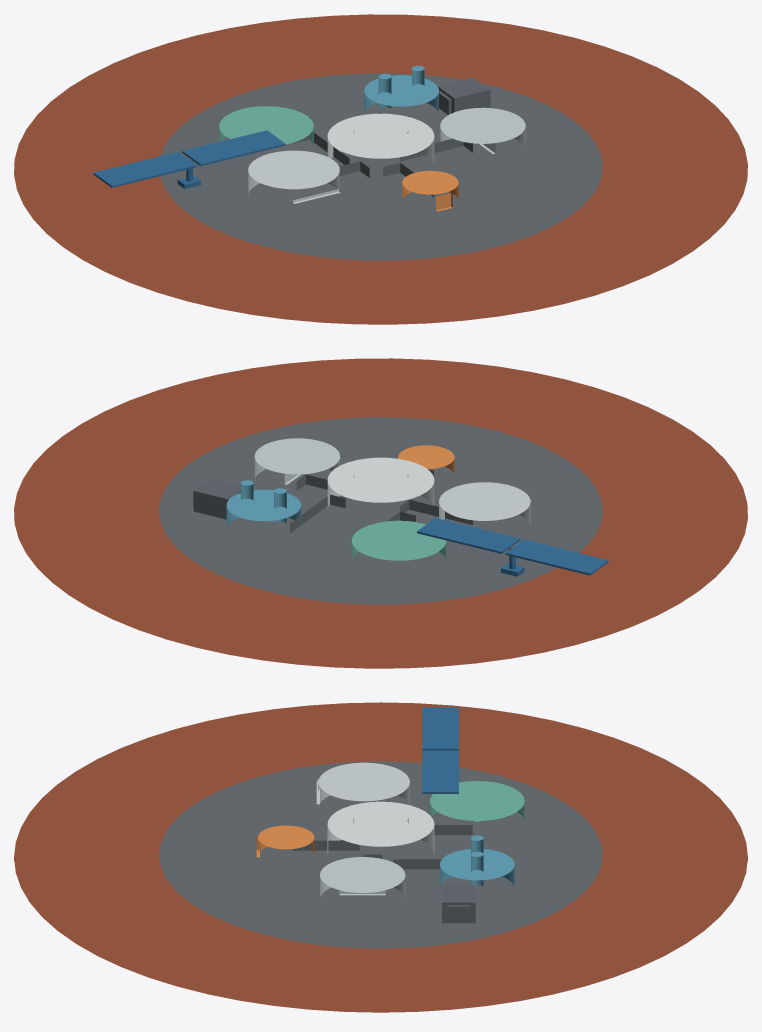
File: ares7-habitat-segmented.glb
3 renders of one model, top to bottom at view 1: azimuth 30°, elevation 25°; view 2: azimuth 150°, elevation 25°; view 3: azimuth 270°, elevation 25°, orthographic.
Visible parts, largest first — view 1: ares7-environment, ares7-habitat, ares7-module-command, ares7-solar-alpha, ares7-module-crew, ares7-module-lab, ares7-module-greenhouse, ares7-life-support, ares7-airlock-main, ares7-battery-alpha; view 2: ares7-environment, ares7-habitat, ares7-module-command, ares7-solar-alpha, ares7-module-crew, ares7-module-greenhouse, ares7-module-lab, ares7-life-support, ares7-battery-alpha, ares7-airlock-main; view 3: ares7-environment, ares7-habitat, ares7-module-command, ares7-solar-alpha, ares7-module-crew, ares7-module-greenhouse, ares7-module-lab, ares7-life-support, ares7-battery-alpha, ares7-airlock-main.
Boxes of the visible parts, x1,y1,x2,y2 form: ares7-environment: (14, 14, 747, 324); ares7-habitat: (160, 73, 602, 260); ares7-module-command: (327, 113, 434, 164); ares7-solar-alpha: (93, 130, 285, 188); ares7-module-crew: (248, 150, 340, 203); ares7-module-lab: (440, 107, 525, 154); ares7-module-greenhouse: (219, 106, 313, 147); ares7-life-support: (364, 65, 438, 112); ares7-airlock-main: (402, 170, 458, 211); ares7-battery-alpha: (437, 77, 490, 114); ares7-environment: (14, 358, 747, 668); ares7-habitat: (159, 417, 602, 604); ares7-module-command: (327, 457, 434, 508); ares7-solar-alpha: (417, 518, 608, 576); ares7-module-crew: (439, 482, 531, 525); ares7-module-greenhouse: (351, 520, 446, 561); ares7-module-lab: (254, 438, 340, 484); ares7-life-support: (226, 480, 301, 527); ares7-battery-alpha: (193, 478, 240, 519); ares7-airlock-main: (398, 445, 454, 474); ares7-environment: (14, 702, 747, 1012); ares7-habitat: (159, 761, 602, 948); ares7-module-command: (327, 801, 434, 854); ares7-solar-alpha: (422, 707, 458, 793); ares7-module-crew: (316, 762, 409, 807); ares7-module-greenhouse: (430, 781, 524, 821); ares7-module-lab: (320, 857, 405, 898); ares7-life-support: (440, 835, 514, 886); ares7-battery-alpha: (442, 885, 475, 923); ares7-airlock-main: (256, 825, 314, 857).
Size of the model in its own units: 48 by 3.6 by 48.
